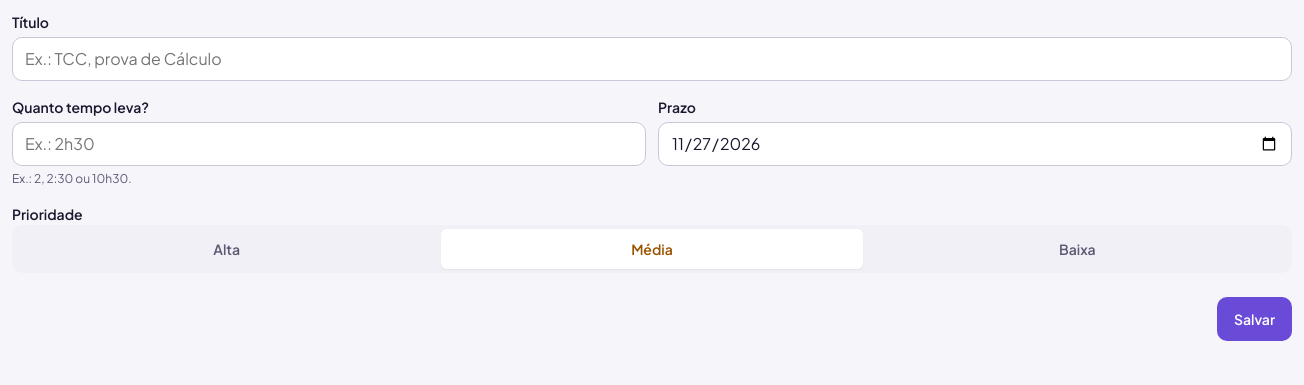
Test case: TaskForm (US03) › mostra os erros de validação e não envia (RN01, RN02)
This screenshot has width=1304, height=385.
In the field labelled "Quanto tempo leva?": (329, 144) [12,122,646,166], type "1:15"
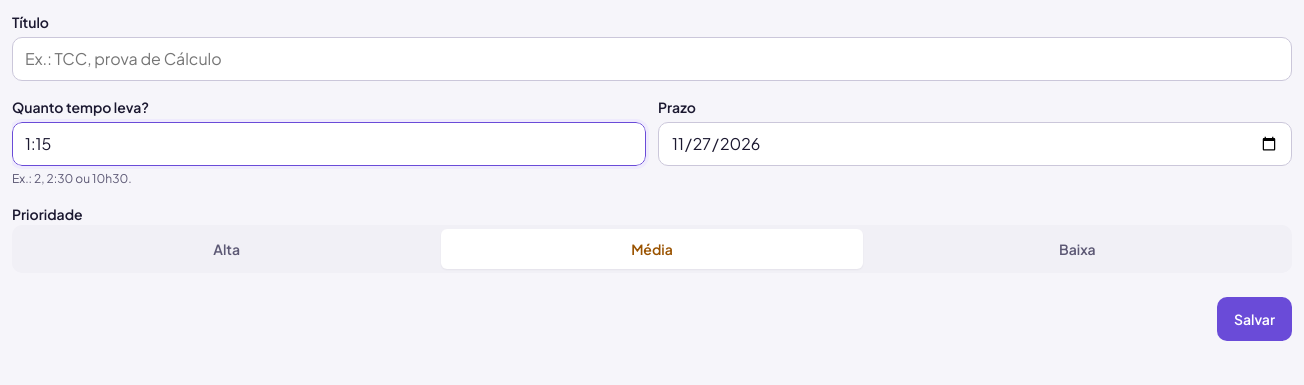
In the date field labelled "Prazo": (975, 144) [658,122,1292,166], type "2026-11-19"
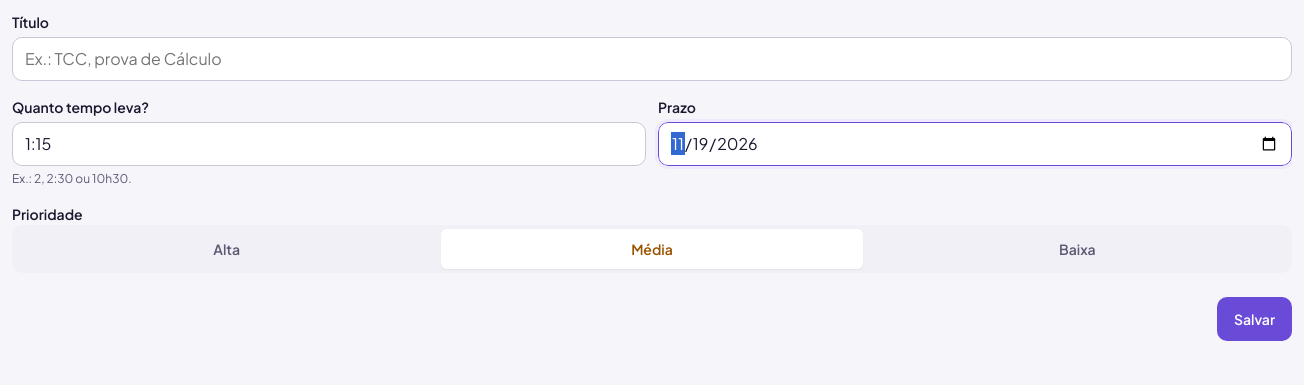
Click the button "Salvar": (1254, 319) [1217,297,1292,341]
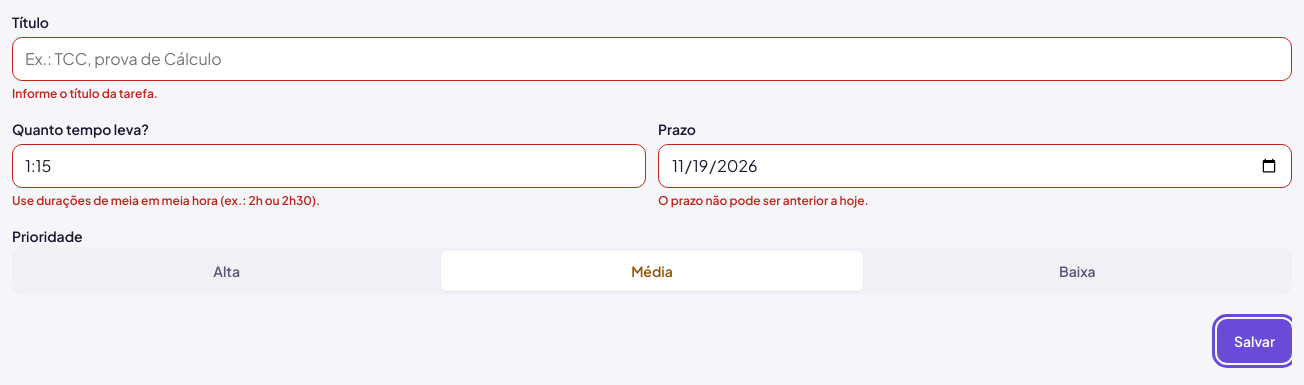
Expected: the text "Informe o título da tarefa." is shown, [12,86,158,101]
Expected: the text "Use durações de meia em meia hora (ex.: 2h ou 2h30)." is shown, [12,193,320,208]
Expected: the text "O prazo não pode ser anterior a hoje." is shown, [658,193,869,208]
